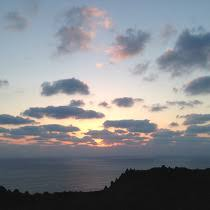mountain: (10, 174, 209, 207)
sea: (3, 157, 207, 184)
sky: (4, 1, 203, 151)
